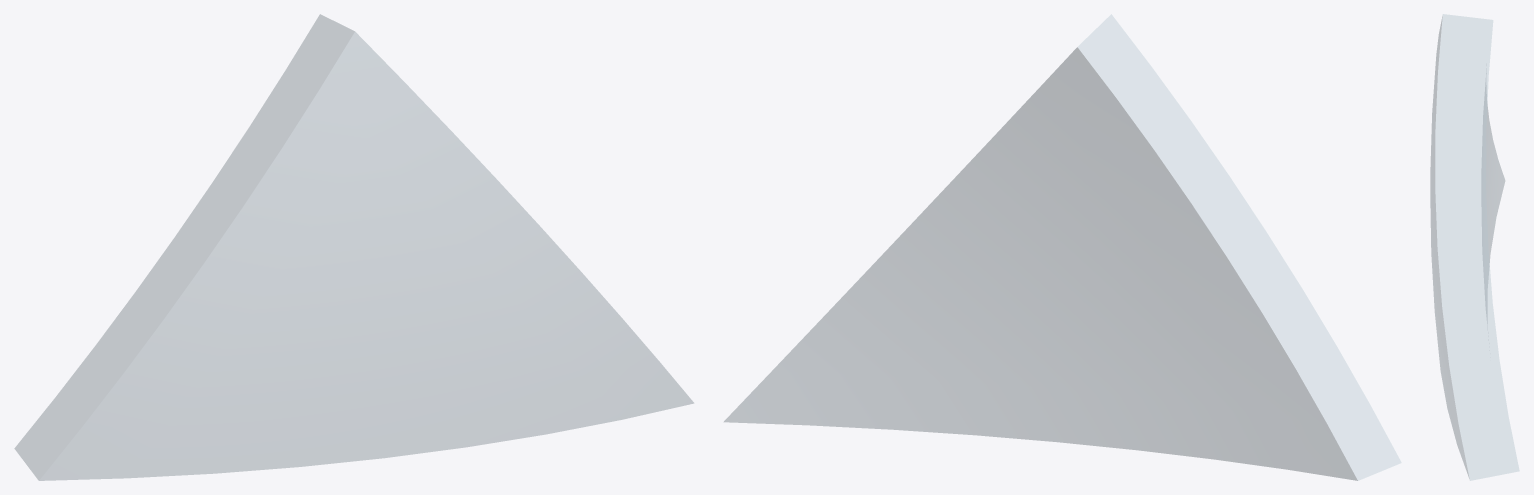
Rendered from shard.glb.
3 renders of one model, left to right at view 1: azimuth 30°, elevation 25°; view 2: azimuth 150°, elevation 25°; view 3: azimuth 270°, elevation 25°, orthographic. The views are drawn at different scales.
Visible parts, largest first — view 1: shard; view 2: shard; view 3: shard.
Part boxes in pixels (box(x1,y1,x2,y2)): shard: box(14, 14, 693, 480); shard: box(724, 14, 1401, 480); shard: box(1430, 14, 1519, 480).
Bounding box in the file's own units: 0.1086 × 0.0737 × 0.0175.
